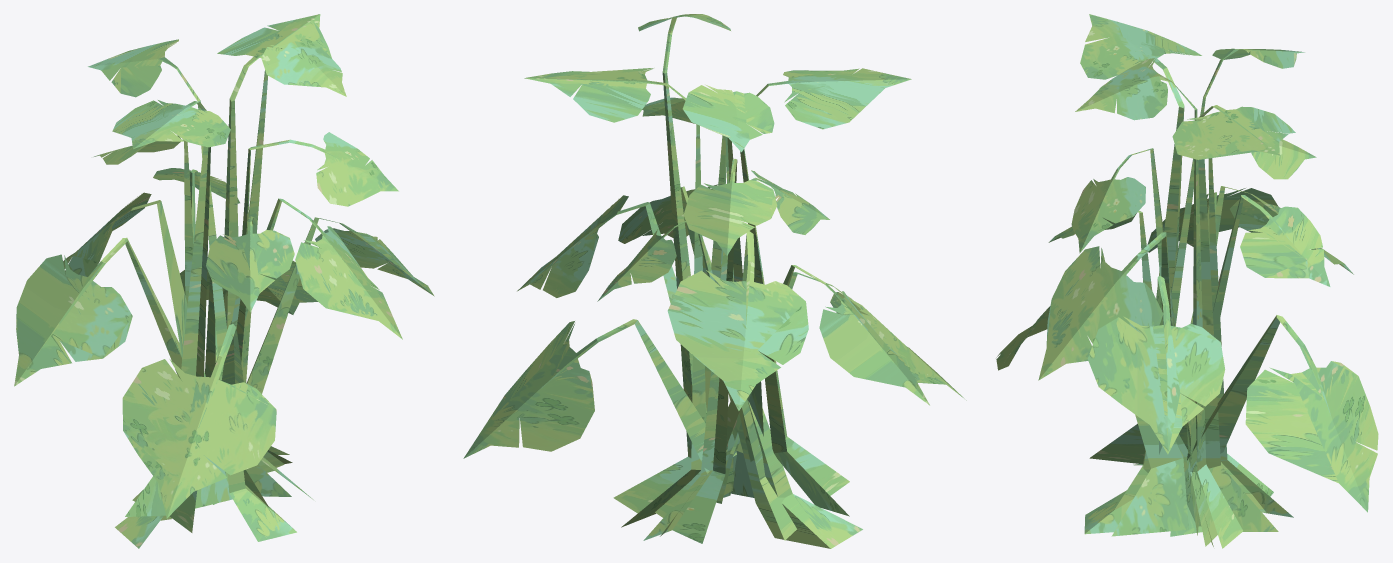
File: trop_bigleaf.glb
3 renders of one model, left to right at view 1: azimuth 30°, elevation 25°; view 2: azimuth 150°, elevation 25°; view 3: azimuth 270°, elevation 25°, orthographic. The views are drawn at different scales.
Parts seen in each view (by area): view 1: Plane.006; view 2: Plane.006; view 3: Plane.006.
Part boxes in pixels (x1=…): Plane.006: x1=14, y1=14, x2=434, y2=548; Plane.006: x1=463, y1=14, x2=966, y2=548; Plane.006: x1=996, y1=14, x2=1378, y2=548.
Size of the model in its own units: 6.01 by 6.53 by 4.7.
Materials: 14 (14 with a texture image).
